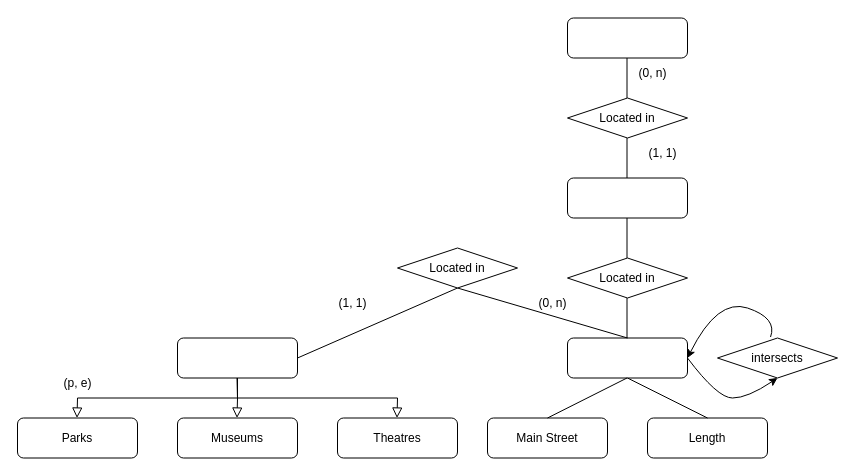
This 855x475 diagram has some shape labels left out. The shapes that lost their labels are listed below. From the top down, each one's centre as x and y in pixels, then its label:
At pixel 627 37: "County".
At pixel 627 197: "City".
At pixel 237 357: "Attraction".
At pixel 627 357: "Street".
